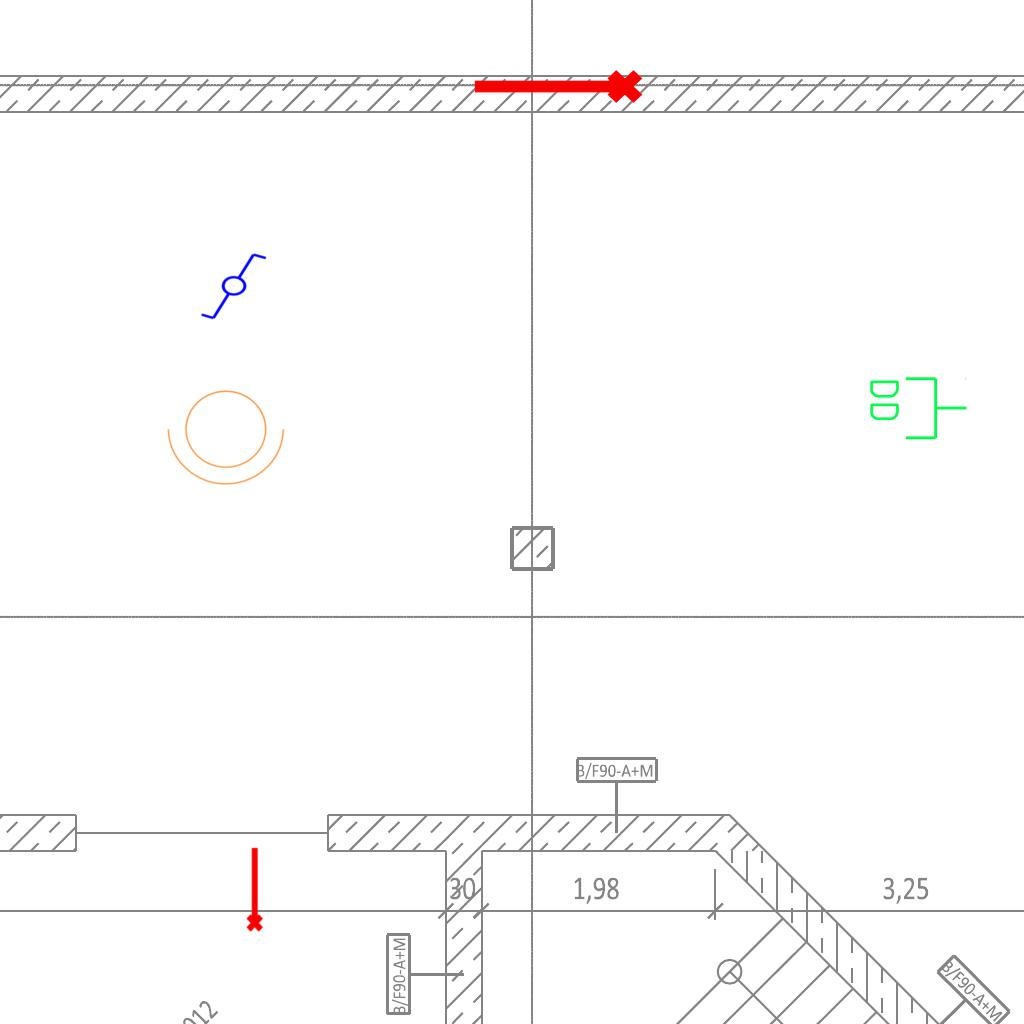ASR_Ansaugoeffnung: (469, 66, 645, 112), (242, 845, 265, 933)
Datenanschluss_zweifach: (866, 373, 969, 442)
Scheinwerfer_fuer_Alarmbeleuchtung: (163, 378, 295, 490)
Wechselschalter: (199, 251, 277, 323)
